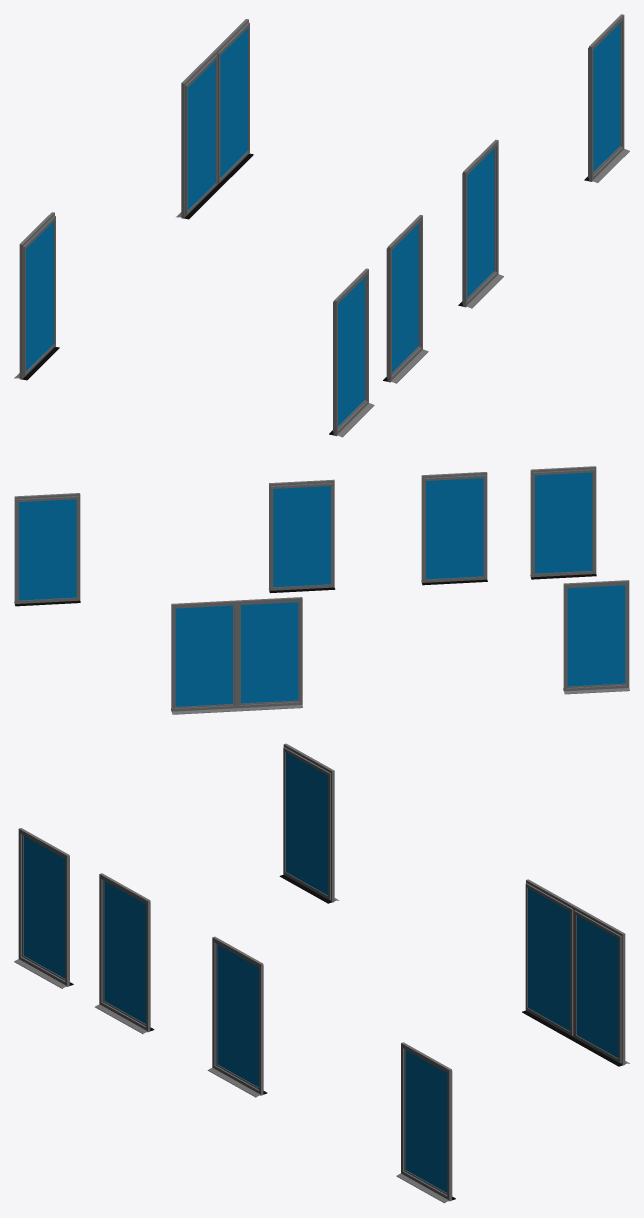
The model's file is rac_basic_sample_project_Level_2_IfcWindow.dae.
3 renders of one model, top to bottom at view 1: azimuth 30°, elevation 25°; view 2: azimuth 150°, elevation 25°; view 3: azimuth 270°, elevation 25°, orthographic. The views are drawn at different scales.
Visible parts, largest first — view 1: 1ikhyTwD17yAnDcdaZ57O9, 1ikhyTwD17yAnDcdaZ57Pn, 2Lyq8QMkH4ges0Q77HE131, 0ELdlxJuP1AwzgUXpRT7iS, 1jq3WIaE92UPTHNxmrWmzx, 1ikhyTwD17yAnDcdaZ57Om, 0c0us5oRfBJgddHOG86fE2; view 2: 0ELdlxJuP1AwzgUXpRT7iS, 1ikhyTwD17yAnDcdaZ57Om, 1ikhyTwD17yAnDcdaZ57Pn, 2Lyq8QMkH4ges0Q77HE131, 0c0us5oRfBJgddHOG86fE2, 1jq3WIaE92UPTHNxmrWmzx, 1ikhyTwD17yAnDcdaZ57O9; view 3: 2Lyq8QMkH4ges0Q77HE131, 1ikhyTwD17yAnDcdaZ57O9, 1ikhyTwD17yAnDcdaZ57Om, 1ikhyTwD17yAnDcdaZ57Pn, 0ELdlxJuP1AwzgUXpRT7iS, 0c0us5oRfBJgddHOG86fE2, 1jq3WIaE92UPTHNxmrWmzx.
Boxes of the visible parts, bbox=[...] form: 1ikhyTwD17yAnDcdaZ57O9: bbox=[458, 139, 503, 308]; 1ikhyTwD17yAnDcdaZ57Pn: bbox=[584, 14, 629, 182]; 2Lyq8QMkH4ges0Q77HE131: bbox=[383, 215, 428, 383]; 0ELdlxJuP1AwzgUXpRT7iS: bbox=[14, 212, 59, 380]; 1jq3WIaE92UPTHNxmrWmzx: bbox=[176, 51, 221, 219]; 1ikhyTwD17yAnDcdaZ57Om: bbox=[329, 268, 374, 437]; 0c0us5oRfBJgddHOG86fE2: bbox=[214, 19, 253, 186]; 0ELdlxJuP1AwzgUXpRT7iS: bbox=[563, 580, 629, 694]; 1ikhyTwD17yAnDcdaZ57Om: bbox=[530, 466, 596, 579]; 1ikhyTwD17yAnDcdaZ57Pn: bbox=[14, 493, 80, 606]; 2Lyq8QMkH4ges0Q77HE131: bbox=[421, 472, 487, 585]; 0c0us5oRfBJgddHOG86fE2: bbox=[171, 600, 237, 714]; 1jq3WIaE92UPTHNxmrWmzx: bbox=[237, 597, 302, 711]; 1ikhyTwD17yAnDcdaZ57O9: bbox=[269, 479, 335, 593]; 2Lyq8QMkH4ges0Q77HE131: bbox=[95, 873, 154, 1033]; 1ikhyTwD17yAnDcdaZ57O9: bbox=[207, 936, 267, 1097]; 1ikhyTwD17yAnDcdaZ57Om: bbox=[14, 828, 73, 988]; 1ikhyTwD17yAnDcdaZ57Pn: bbox=[396, 1042, 455, 1203]; 0ELdlxJuP1AwzgUXpRT7iS: bbox=[279, 743, 339, 903]; 0c0us5oRfBJgddHOG86fE2: bbox=[570, 906, 629, 1066]; 1jq3WIaE92UPTHNxmrWmzx: bbox=[522, 879, 576, 1038].
Size of the model in its own units: 14.54 by 11.48 by 2.71.
